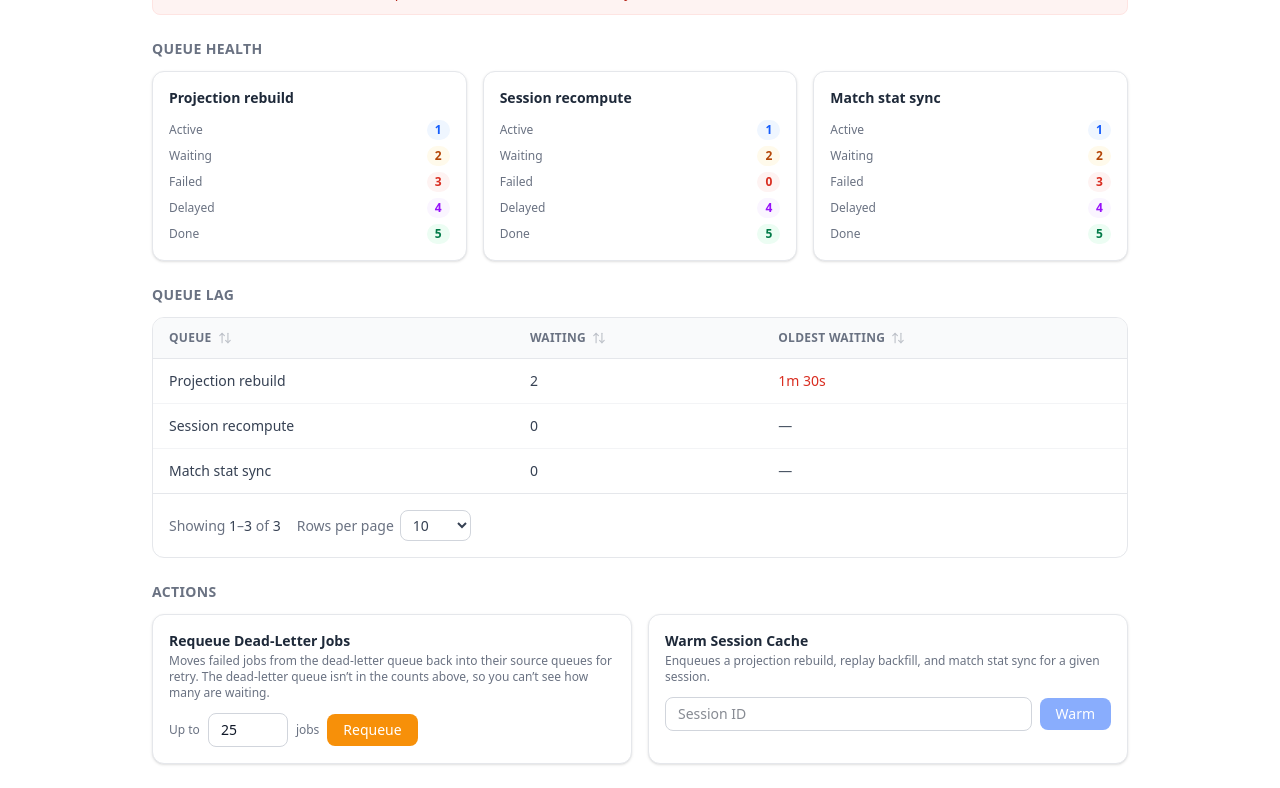
Test: QueueDashboard › clamps an out-of-range limit
(page scrolled)
Replace the text in the number field labelled "Up to" with "9999" at (248,730), box [208,713,288,747]
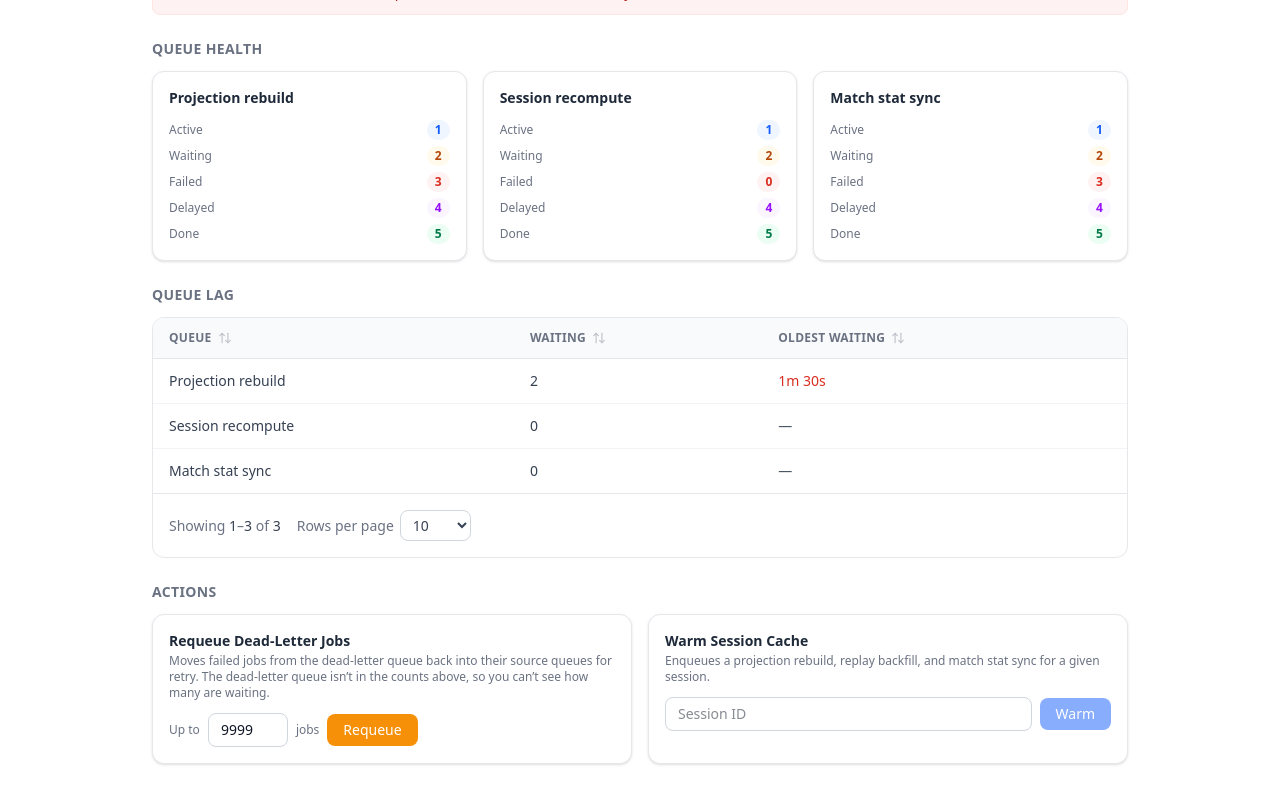
Click the button "Requeue" at (373,730), box [327,714,418,746]
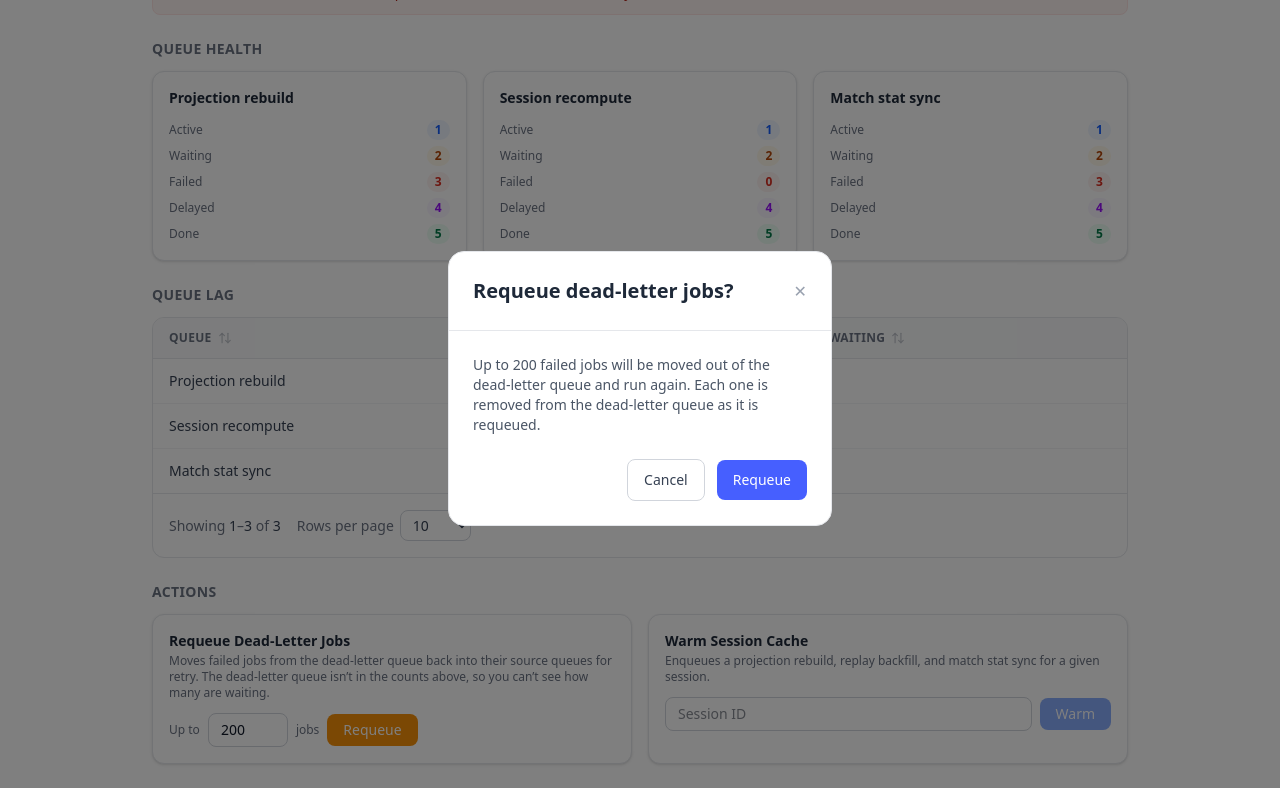
Result: the text "Up to 200 failed jobs" is shown at [473,354,770,434]
